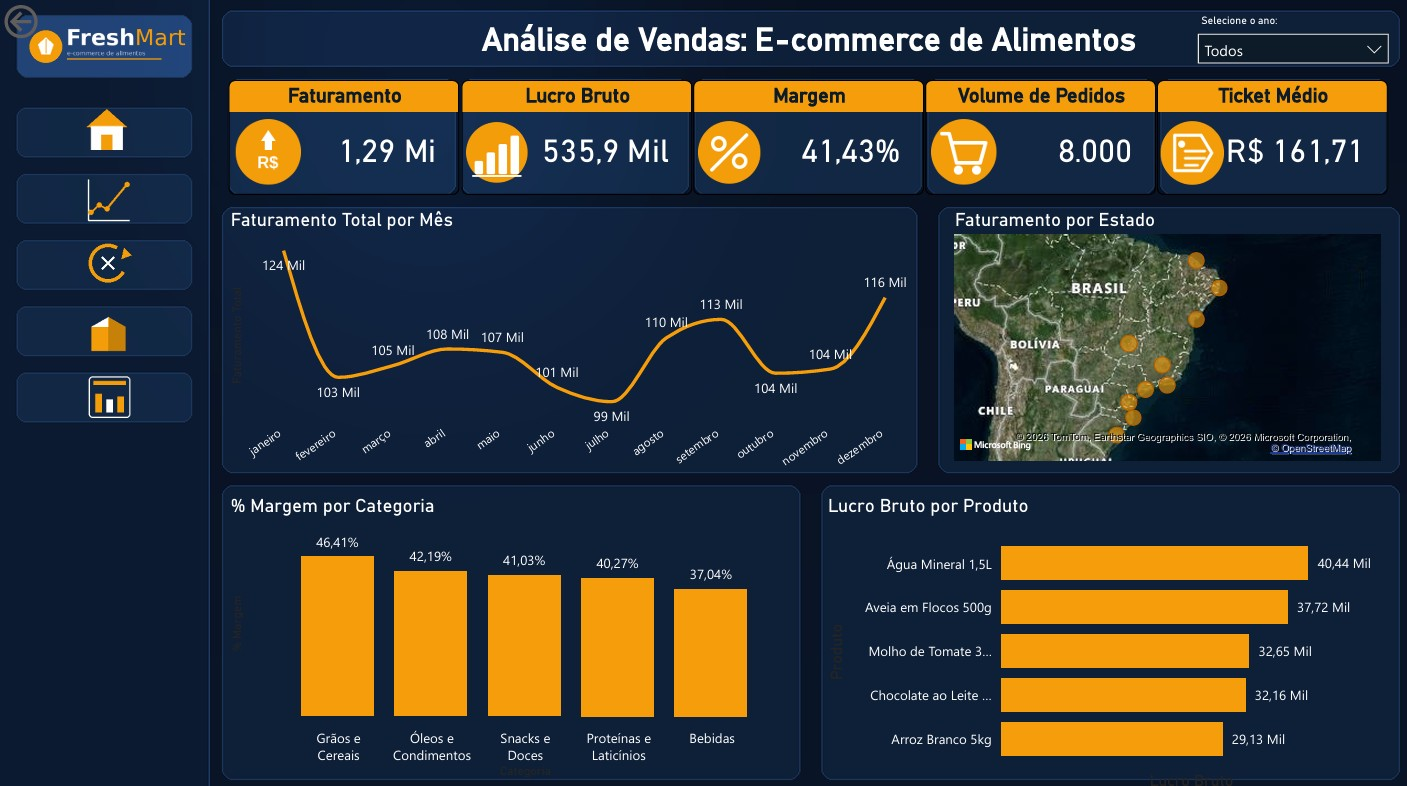

This screenshot's page, from the dashboard's own definition file:
{"tool":"powerbi","page":{"name":"Vendas","canvas":[1280,720],"ordinal":1},"visuals":[{"type":"cardVisual","title":"Faturamento","fields":{"Data":["_Medidas.Faturamento Total"]},"box":[207.5,72.5,208.8,103.8],"z":0},{"type":"lineChart","fields":{"Category":["dCalendario.Data.Variation.Hierarquia de datas.Mês"],"Y":["_Medidas.Faturamento Total"]},"box":[205.1,189.4,622.5,246.1],"z":1000},{"type":"columnChart","fields":{"Category":["dProdutos.Categoria"],"Y":["_Medidas.% Margem"]},"box":[205,447.5,513.8,261.2],"z":2000},{"type":"barChart","fields":{"Y":["_Medidas.Lucro Bruto"],"Category":["dProdutos.Nome_Produto"]},"box":[746.2,447.5,511.2,272.5],"z":3000},{"type":"actionButton","box":[0,0,100,40],"z":4000},{"type":"slicer","fields":{"Values":["dCalendario.Ano"]},"box":[1076.2,7.5,192.5,65],"z":5000},{"type":"textbox","box":[420,13.8,627.5,52.5],"z":6000},{"type":"map","title":"Faturamento por Estado","fields":{"Category":["fVendas.Estado"],"Size":["_Medidas.Faturamento Total"],"Y":["Avg(fVendas.Latitude)"],"X":["Avg(fVendas.Longitude)"]},"box":[861.4,189.4,395.7,234],"z":7000},{"type":"image","box":[18.8,1.2,155,82.5],"z":8000},{"type":"image","box":[27.5,92.5,138.8,48.8],"z":9000},{"type":"image","box":[22.5,155,152.5,52.5],"z":10000},{"type":"image","box":[71.2,278.8,56.2,46.2],"z":11000},{"type":"image","box":[75,332.5,50,53.8],"z":12000},{"type":"image","box":[66.2,197.5,65,81.2],"z":13000},{"type":"cardVisual","title":"Lucro Bruto","fields":{"Data":["_Medidas.Lucro Bruto"]},"box":[418.8,72.5,208.8,103.8],"z":14000},{"type":"cardVisual","title":"Margem","fields":{"Data":["_Medidas.% Margem"]},"box":[628.8,72.5,208.8,103.8],"z":15000},{"type":"cardVisual","title":"Volume de Pedidos","fields":{"Data":["_Medidas.Quantidade de Pedidos"]},"box":[838.8,72.5,208.8,103.8],"z":16000},{"type":"cardVisual","title":"Ticket Médio","fields":{"Data":["_Medidas.Ticket Médio"]},"box":[1048.8,72.5,208.8,103.8],"z":17000},{"type":"image","box":[196.6,105.6,115.8,66.4],"z":18000},{"type":"image","box":[431.9,107.4,61.5,62.7],"z":19000},{"type":"image","box":[851.7,108.6,72.4,66.4],"z":20000},{"type":"image","box":[632.2,109.8,86.9,62.7],"z":21000},{"type":"image","box":[1059.3,105,63.9,67.6],"z":22000}]}

Visuals, with their boxes in screenshot pixels (x1, y1, x2, y2), scaled from the page's 1280x720 canvas onto the 1407x786 screenshot:
"Faturamento" cardVisual: rect(228, 79, 458, 192)
lineChart - dCalendario.Data.Variation.Hierarquia de datas.Mês x _Medidas.Faturamento Total: rect(225, 207, 910, 475)
columnChart - dProdutos.Categoria x _Medidas.% Margem: rect(225, 489, 790, 774)
barChart - _Medidas.Lucro Bruto x dProdutos.Nome_Produto: rect(820, 489, 1382, 785)
actionButton: rect(0, 0, 110, 44)
slicer - dCalendario.Ano: rect(1183, 8, 1395, 79)
textbox: rect(462, 15, 1151, 72)
"Faturamento por Estado" map: rect(947, 207, 1382, 462)
image: rect(21, 1, 191, 91)
image: rect(30, 101, 183, 154)
image: rect(25, 169, 192, 227)
image: rect(78, 304, 140, 355)
image: rect(82, 363, 137, 422)
image: rect(73, 216, 144, 304)
"Lucro Bruto" cardVisual: rect(460, 79, 690, 192)
"Margem" cardVisual: rect(691, 79, 921, 192)
"Volume de Pedidos" cardVisual: rect(922, 79, 1152, 192)
"Ticket Médio" cardVisual: rect(1153, 79, 1382, 192)
image: rect(216, 115, 343, 188)
image: rect(475, 117, 542, 186)
image: rect(936, 119, 1016, 191)
image: rect(695, 120, 790, 188)
image: rect(1164, 115, 1235, 188)
